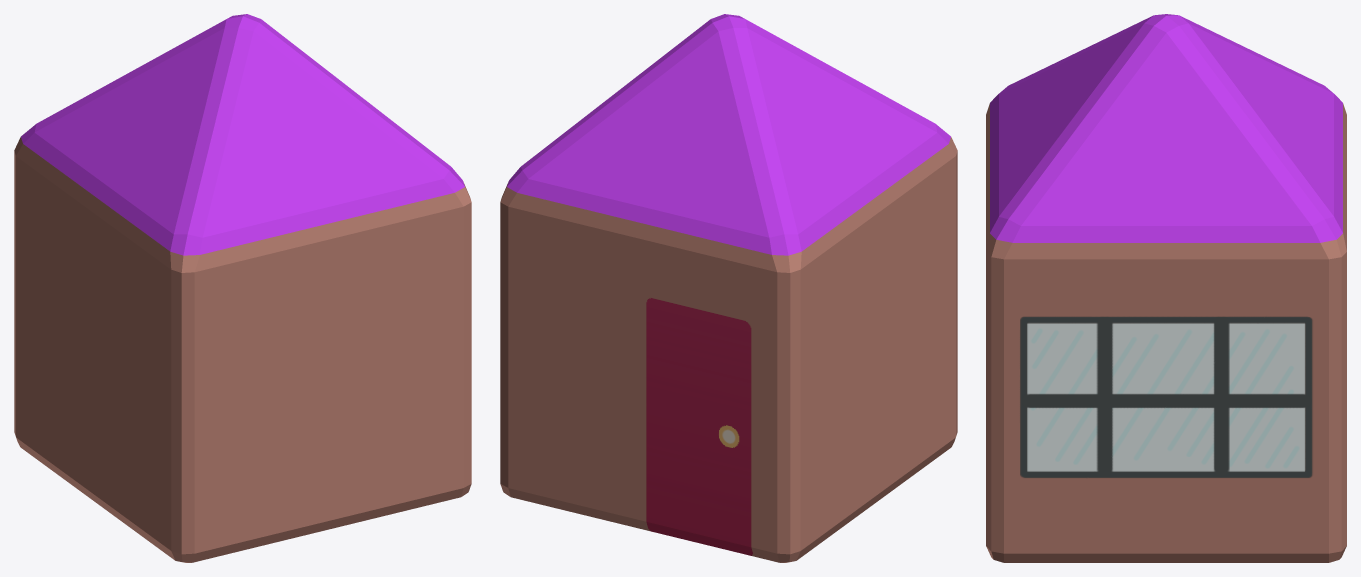
Rendered from House.fbx.
3 views of the same model, side by side, from view 1: azimuth 30°, elevation 25°; view 2: azimuth 150°, elevation 25°; view 3: azimuth 270°, elevation 25° (orthographic). The views are drawn at different scales.
Parts seen in each view (by area): view 1: House; view 2: House; view 3: House.
Boxes of the visible parts, x1,y1,x2,y2 form: House: [14, 14, 471, 562]; House: [500, 14, 957, 562]; House: [986, 14, 1346, 562].
Bounding box in the file's own units: 200 × 200 × 292.
2 materials, 1 textured.
